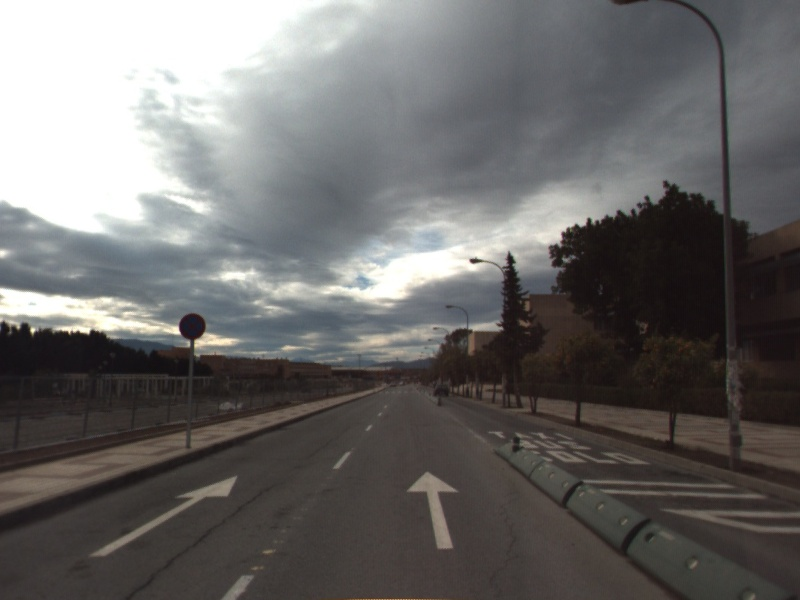STRAIGHT: (86, 474, 239, 559), (404, 469, 462, 551)
